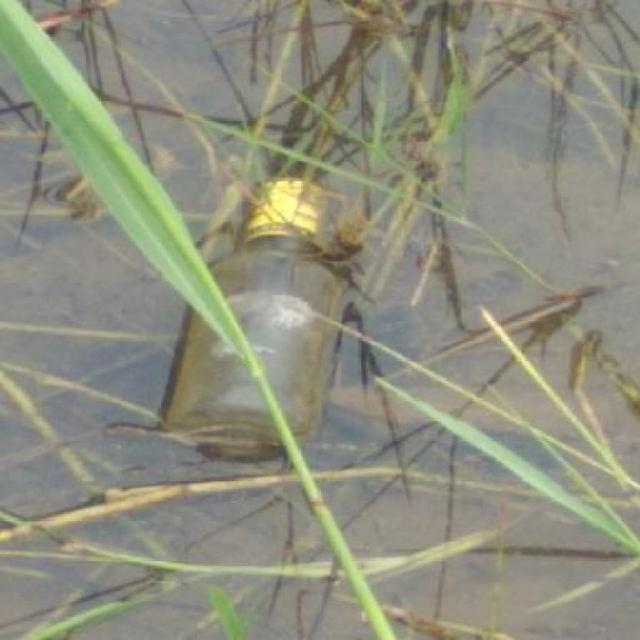garbage: (154, 148, 316, 485)
